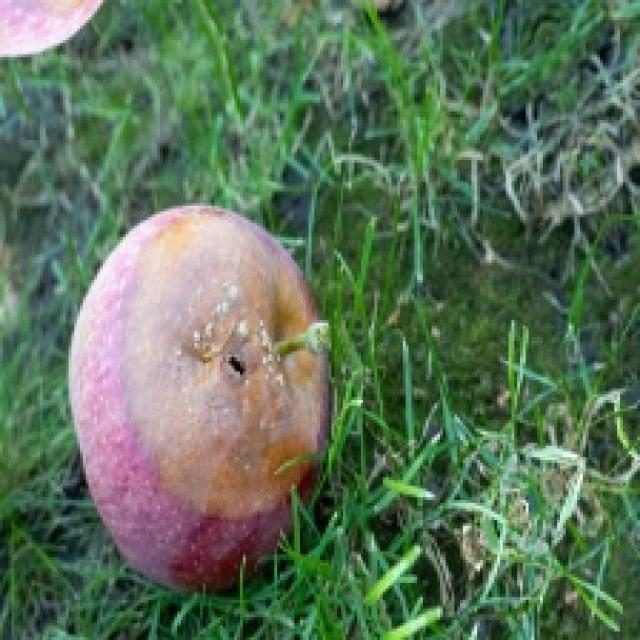rotten_apple: (74, 204, 327, 585)
